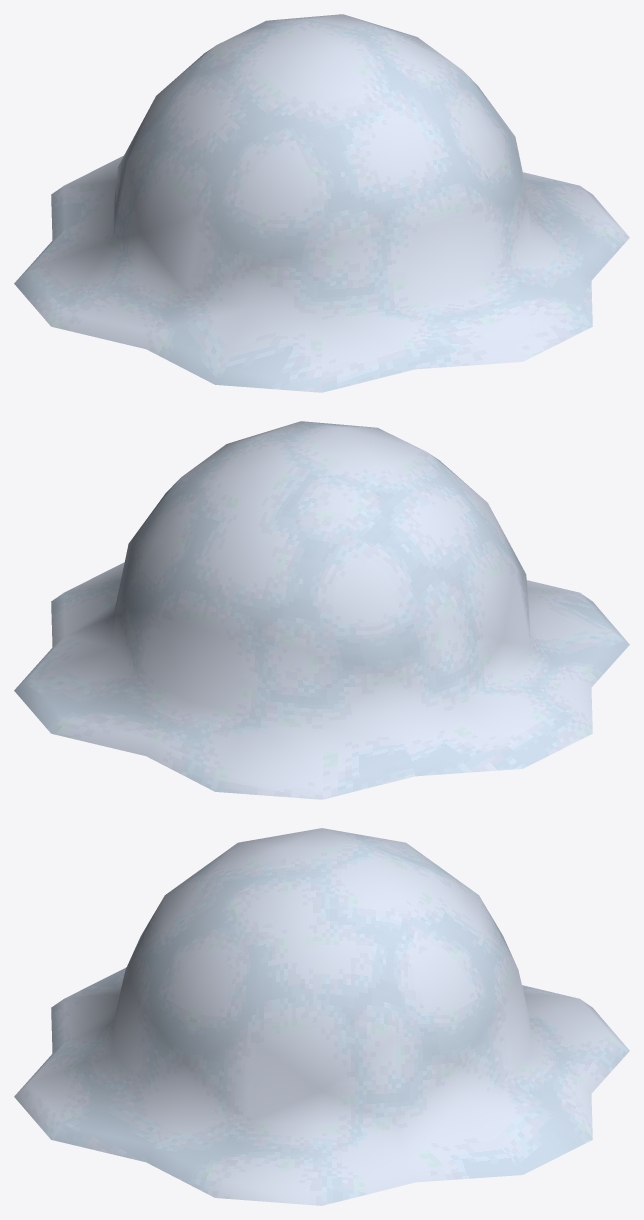
File: snowball_2day.dae
The picture shows the model from 3 angles, top to bottom: view 1: azimuth 30°, elevation 25°; view 2: azimuth 150°, elevation 25°; view 3: azimuth 270°, elevation 25°; orthographic projection.
Visible parts, largest first — view 1: snowball_2day; view 2: snowball_2day; view 3: snowball_2day.
Part boxes in pixels (x1=…): snowball_2day: x1=14, y1=14, x2=629, y2=392; snowball_2day: x1=14, y1=421, x2=629, y2=799; snowball_2day: x1=14, y1=828, x2=629, y2=1205.
Bounding box in the file's own units: 47.27 × 18.8 × 46.55.
Materials: 1 (1 with a texture image).
